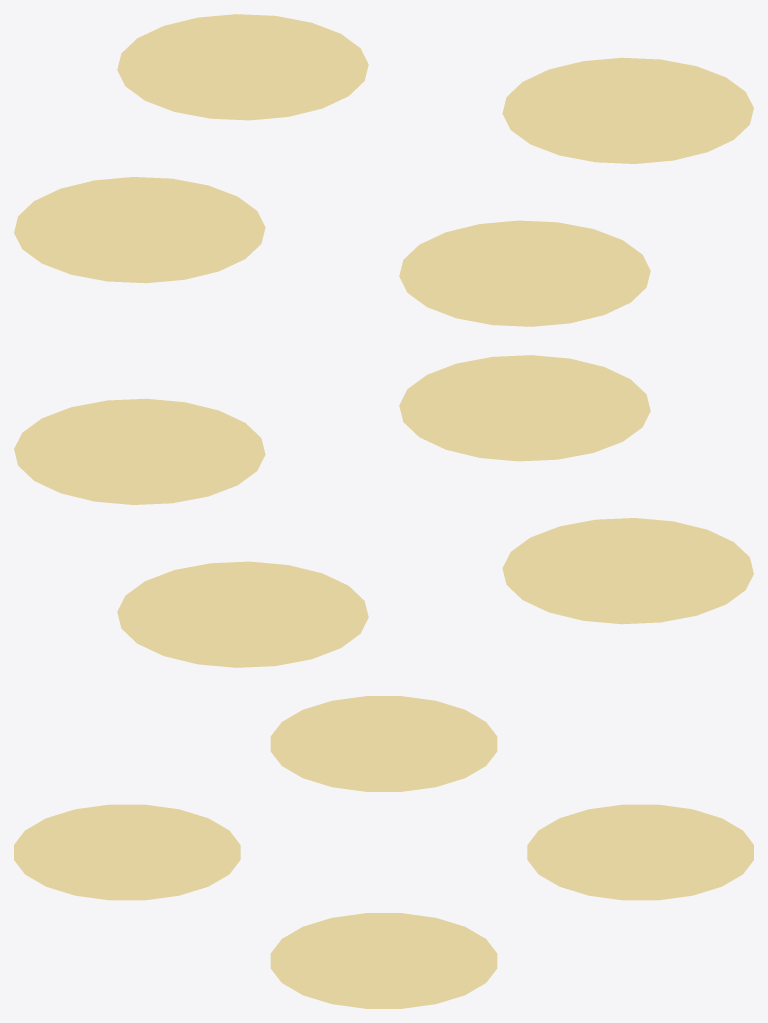
The model's file is dc_metro_roof_j_light_pole_2_light_layer.obj.
3 renders of one model, top to bottom at view 1: azimuth 30°, elevation 25°; view 2: azimuth 150°, elevation 25°; view 3: azimuth 270°, elevation 25°, orthographic. The views are drawn at different scales.
Visible parts, largest first — view 1: cylinder; view 2: cylinder; view 3: cylinder.
Part boxes in pixels (left/top/right/bottom): cylinder: left=14, top=14, right=753, bottom=326; cylinder: left=14, top=355, right=753, bottom=667; cylinder: left=14, top=696, right=753, bottom=1008.
Size of the model in its own units: 1.53 by 0 by 1.53.
Materials: 1 (1 with a texture image).
